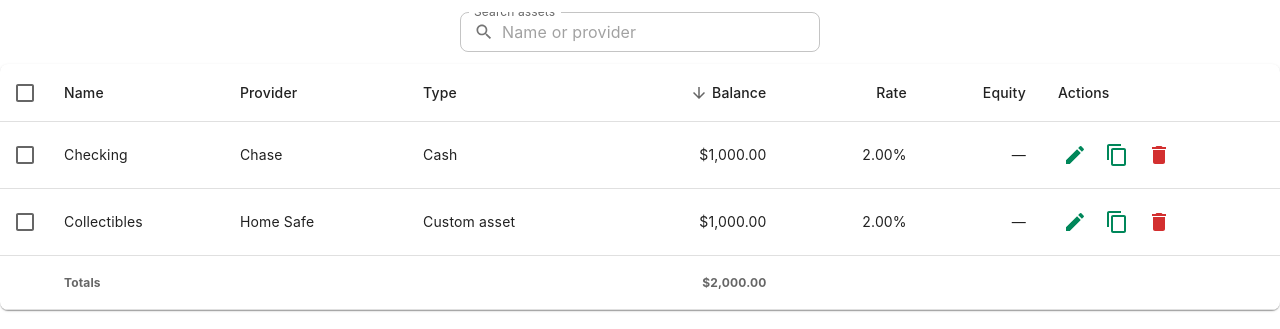
AssetTable (shared HoldingTable config) › filters rows by the search query (name or provider)
Type "home safe" into the field labelled "Search assets" at (661, 32), box [502,12,820,52]
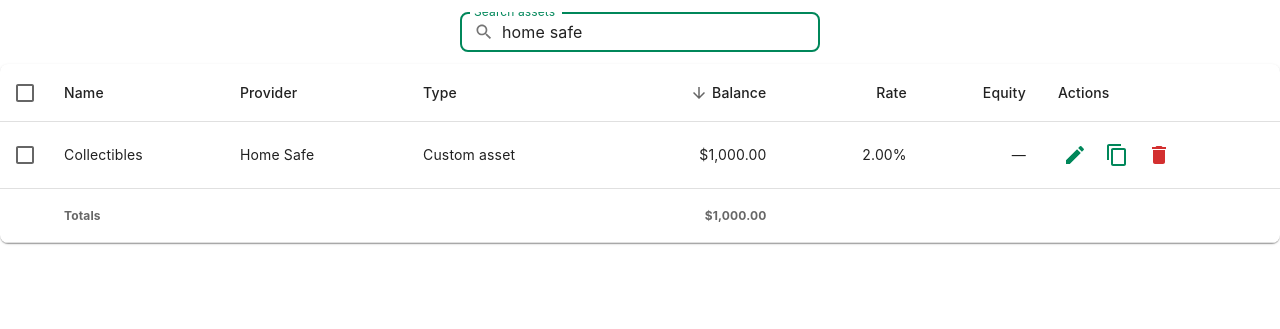
Expected: the text "Collectibles" is shown, [48,122,224,189]
Expected: the text "Checking" is gone
